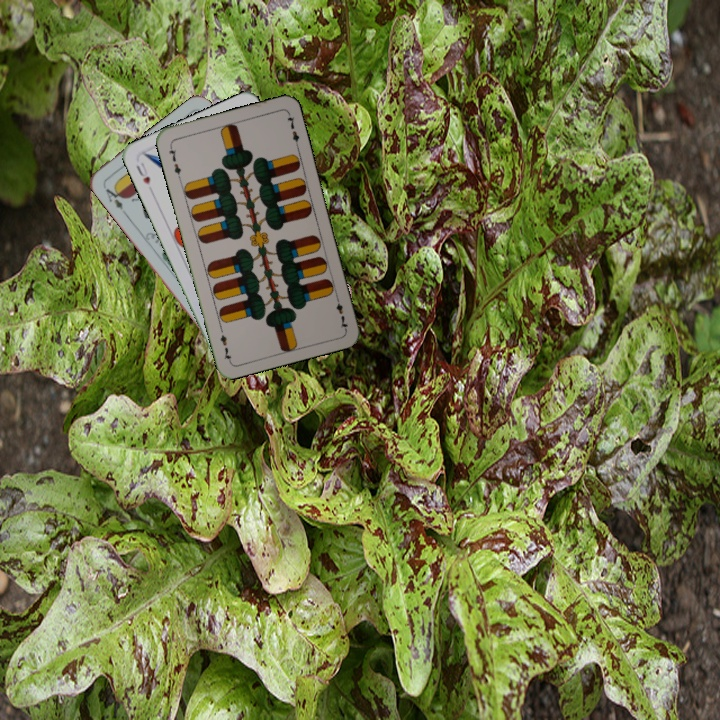E7: (165, 141, 184, 181), (332, 292, 351, 332)
EA: (99, 182, 126, 212)
HU: (132, 158, 153, 187)
